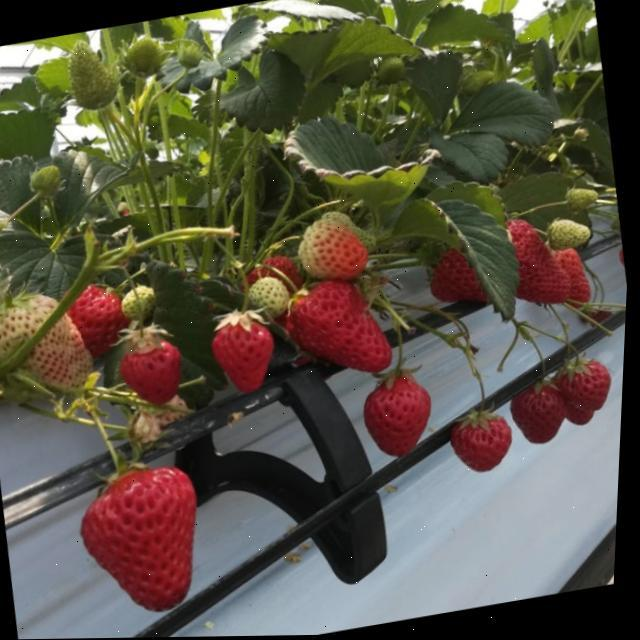ripe: (77, 453, 231, 635), (280, 270, 410, 391), (356, 366, 450, 468), (206, 306, 292, 408), (419, 235, 506, 322), (496, 211, 566, 317), (115, 332, 198, 414), (450, 405, 526, 485), (556, 349, 625, 437), (68, 276, 136, 362), (511, 378, 578, 458), (542, 240, 602, 319)
unripe: (0, 282, 108, 409), (296, 210, 382, 294), (242, 270, 300, 324), (119, 277, 164, 331), (550, 214, 598, 253)
